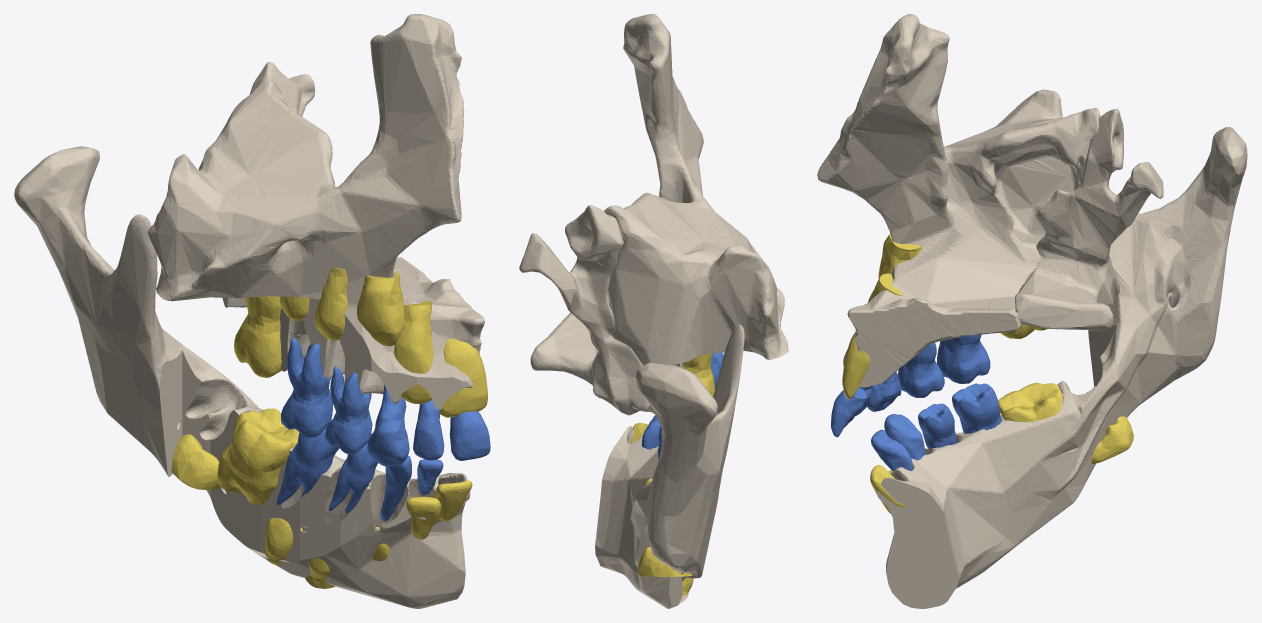
File: age-6-5.glb
3 renders of one model, left to right at view 1: azimuth 30°, elevation 25°; view 2: azimuth 150°, elevation 25°; view 3: azimuth 270°, elevation 25°, orthographic. The views are drawn at different scales.
Parts seen in each view (by area): view 1: upper-bone, lower-bone, upper-adult-teeth, upper-baby-teeth, lower-adult-teeth, lower-baby-teeth; view 2: upper-bone, lower-bone, lower-adult-teeth, upper-adult-teeth, lower-baby-teeth; view 3: upper-bone, lower-bone, upper-baby-teeth, lower-baby-teeth, lower-adult-teeth, upper-adult-teeth.
Part boxes in pixels (x1,y1,x2,y2): upper-bone: [147, 14, 484, 409]; lower-bone: [14, 146, 470, 608]; upper-adult-teeth: [234, 267, 487, 417]; upper-baby-teeth: [281, 338, 490, 466]; lower-adult-teeth: [171, 408, 472, 588]; lower-baby-teeth: [276, 419, 443, 521]; upper-bone: [519, 14, 788, 415]; lower-bone: [595, 324, 744, 608]; lower-adult-teeth: [630, 422, 693, 596]; upper-adult-teeth: [652, 353, 714, 414]; lower-baby-teeth: [641, 415, 662, 459]; upper-bone: [817, 14, 1163, 387]; lower-bone: [876, 127, 1247, 608]; upper-baby-teeth: [831, 334, 990, 437]; lower-baby-teeth: [871, 383, 1001, 471]; lower-adult-teeth: [870, 382, 1133, 513]; upper-adult-teeth: [842, 199, 1049, 399].
Bounding box in the file's own units: 0.0521 × 0.1088 × 0.0733.
